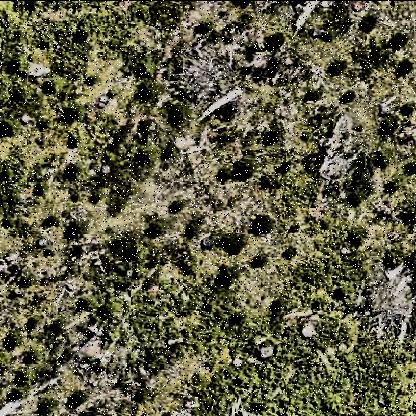tree-top: (219, 230, 247, 257), (247, 213, 275, 238), (233, 156, 258, 181), (382, 246, 404, 272), (63, 100, 86, 124), (135, 78, 160, 100), (166, 103, 189, 126), (43, 72, 66, 95), (136, 55, 158, 79), (146, 215, 167, 239), (67, 219, 89, 241), (36, 395, 59, 416), (67, 388, 89, 408), (359, 12, 377, 34), (375, 150, 391, 168), (5, 329, 18, 349)
